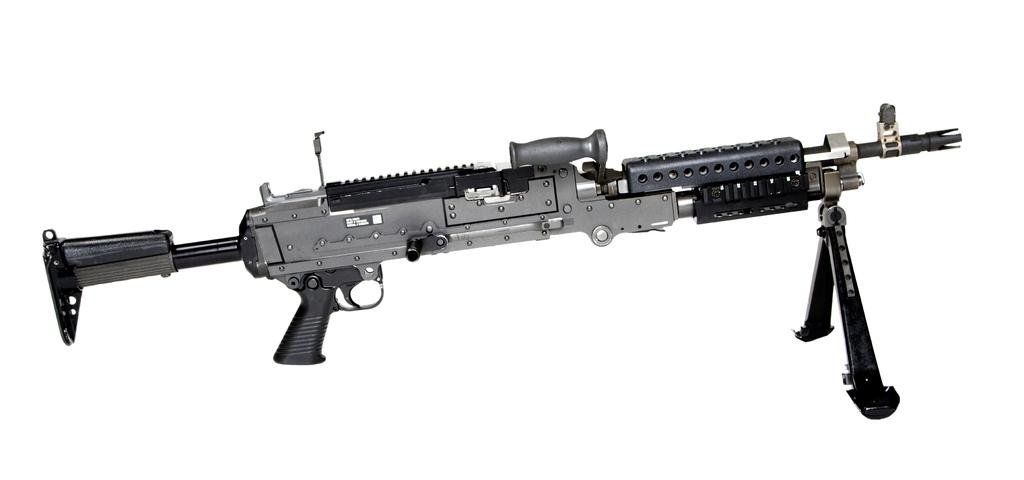Rifle: (41, 102, 963, 422)
